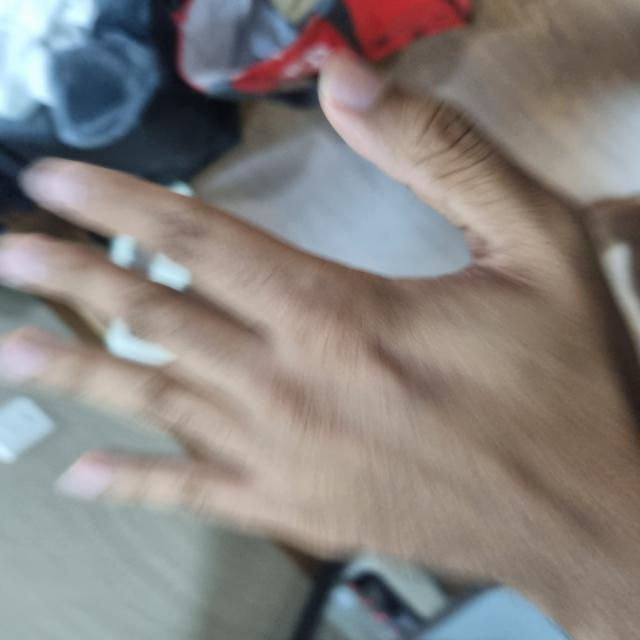Paper: (49, 2, 574, 638)
